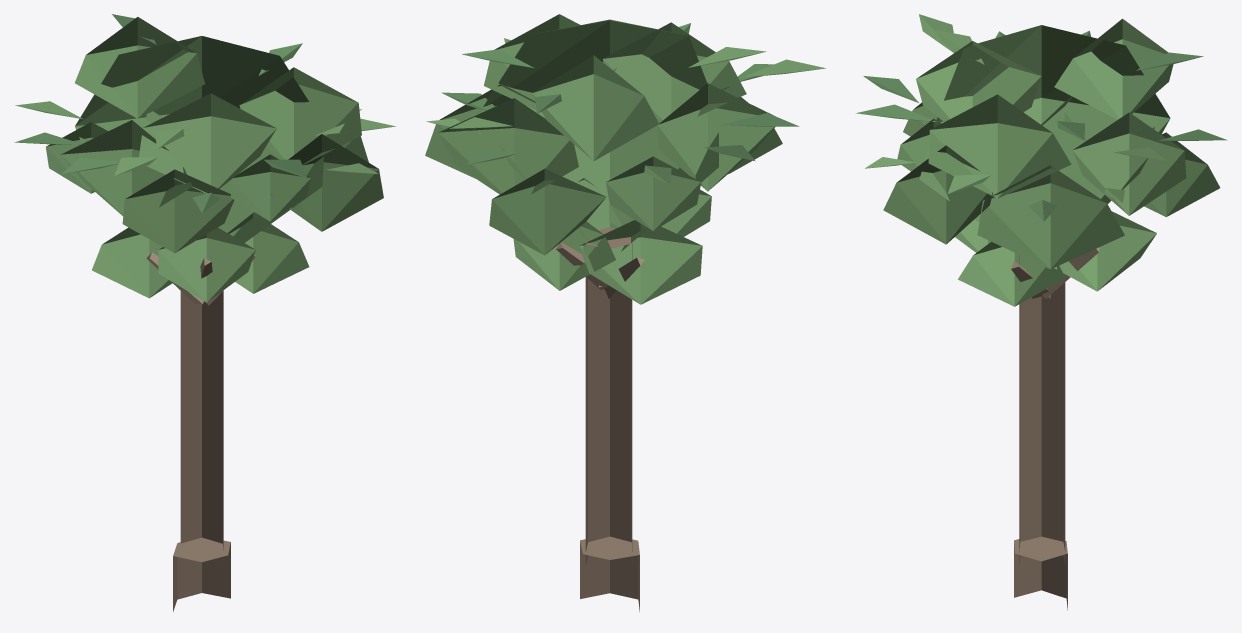
The model's file is shu.mumian@subadult__summer.glb.
3 views of the same model, side by side, from view 1: azimuth 30°, elevation 25°; view 2: azimuth 150°, elevation 25°; view 3: azimuth 270°, elevation 25° (orthographic). The views are drawn at different scales.
Parts seen in each view (by area): view 1: shu.mumian@subadult__summer; view 2: shu.mumian@subadult__summer; view 3: shu.mumian@subadult__summer.
Part boxes in pixels (x1,y1,x2,y2): shu.mumian@subadult__summer: (14,14,396,611); shu.mumian@subadult__summer: (425,14,825,611); shu.mumian@subadult__summer: (856,14,1227,610).
Size of the model in its own units: 10.06 by 16.69 by 9.81.
